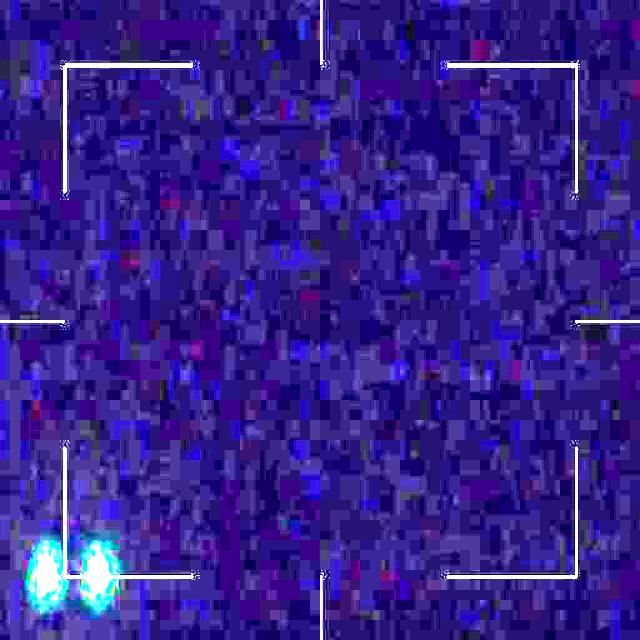bird: (35, 545, 114, 595)
